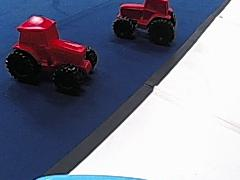Tracktor: (5, 14, 101, 93), (110, 0, 178, 42)
